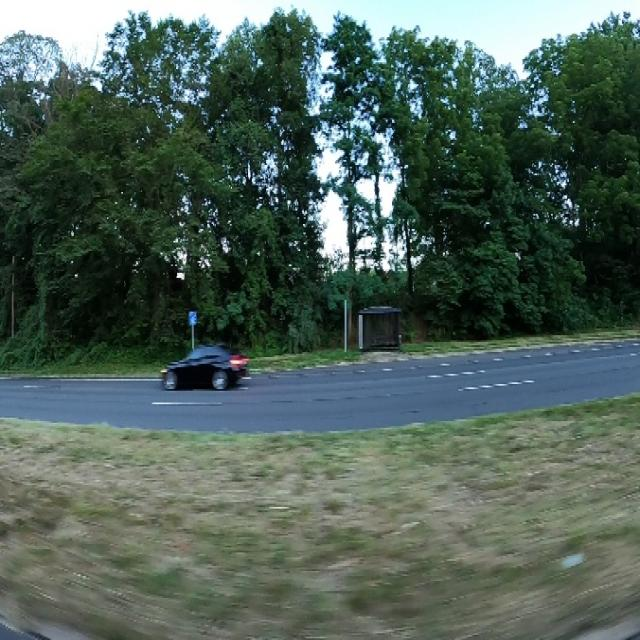cars: (160, 346, 256, 397)
